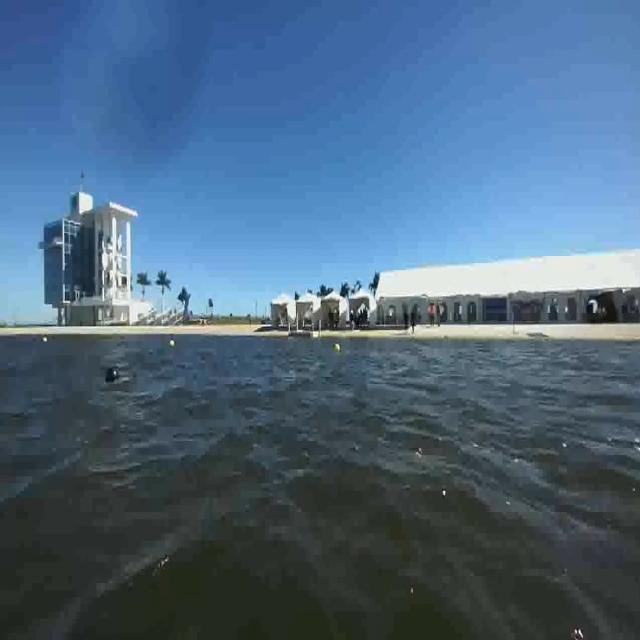black-buoy: (105, 364, 118, 382)
yellow-buoy: (169, 338, 177, 352), (335, 342, 343, 355)
